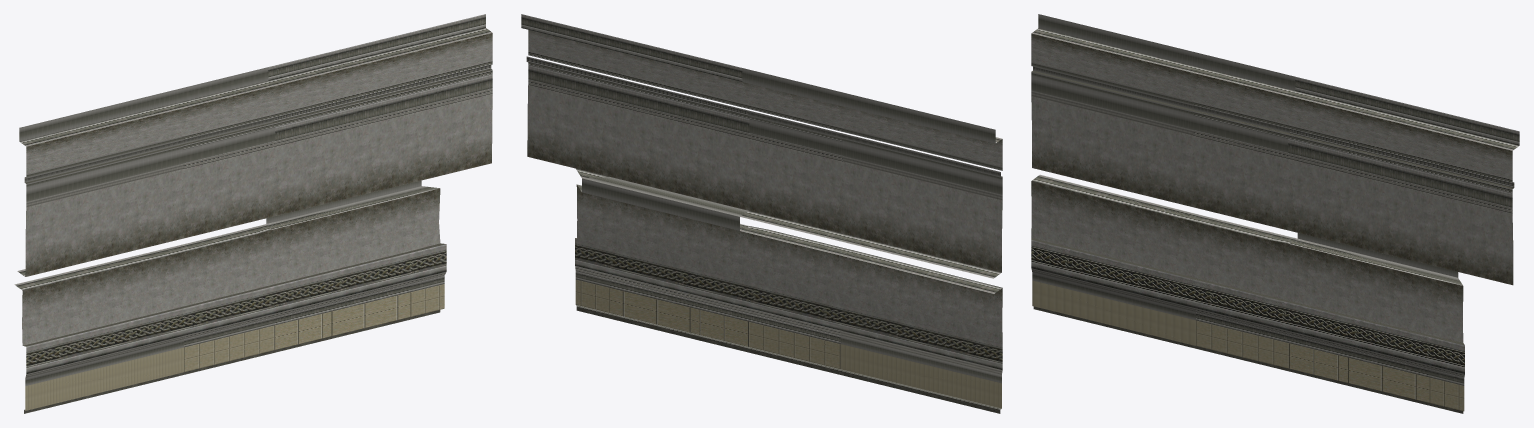
The model's file is DWARF_PALACE_FORGE_BACKWALL02.fbx.
3 views of the same model, side by side, from view 1: azimuth 30°, elevation 25°; view 2: azimuth 150°, elevation 25°; view 3: azimuth 330°, elevation 25° (orthographic). The views are drawn at different scales.
Parts seen in each view (by area): view 1: DWARF_PALACE_FORGE_BACKWALL02; view 2: DWARF_PALACE_FORGE_BACKWALL02; view 3: DWARF_PALACE_FORGE_BACKWALL02.
Part boxes in pixels (box(x1,y1,x2,y2)): DWARF_PALACE_FORGE_BACKWALL02: box(14, 14, 492, 413); DWARF_PALACE_FORGE_BACKWALL02: box(521, 14, 1002, 413); DWARF_PALACE_FORGE_BACKWALL02: box(1031, 14, 1519, 413).
Bounding box in the file's own units: 355365 × 205001 × 13345.
Materials: 7 (7 with a texture image).
